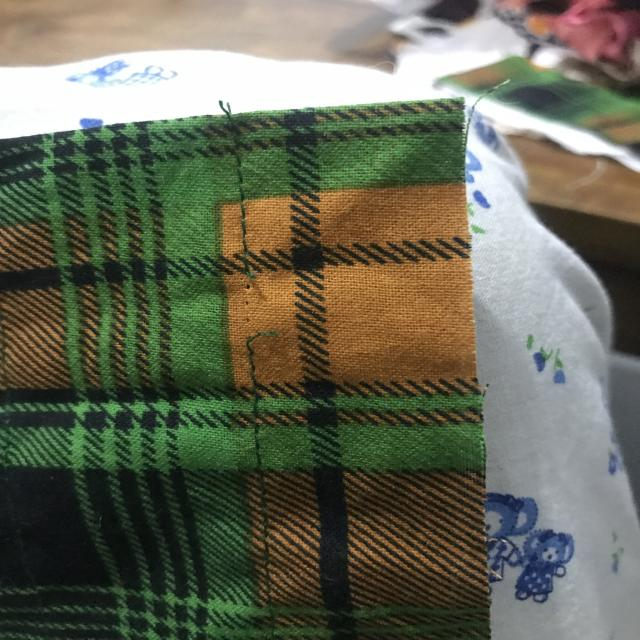broken: (226, 262, 288, 365)
good: (218, 167, 260, 239)
